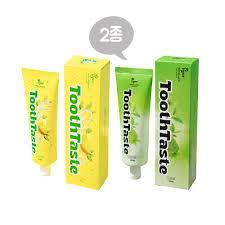toothpaste: (114, 63, 154, 189), (19, 63, 64, 174)
